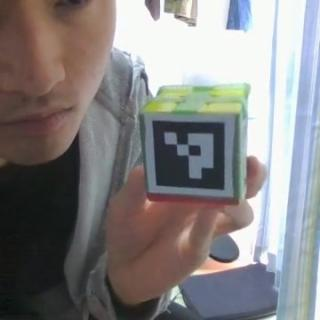armor: (145, 112, 235, 198)
robot: (137, 83, 247, 206)
